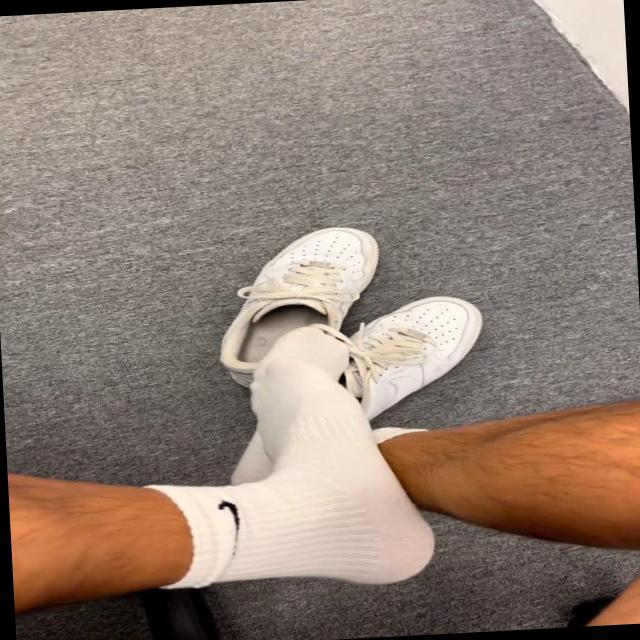nike_original_airforce: (212, 220, 394, 386), (314, 289, 494, 426)
